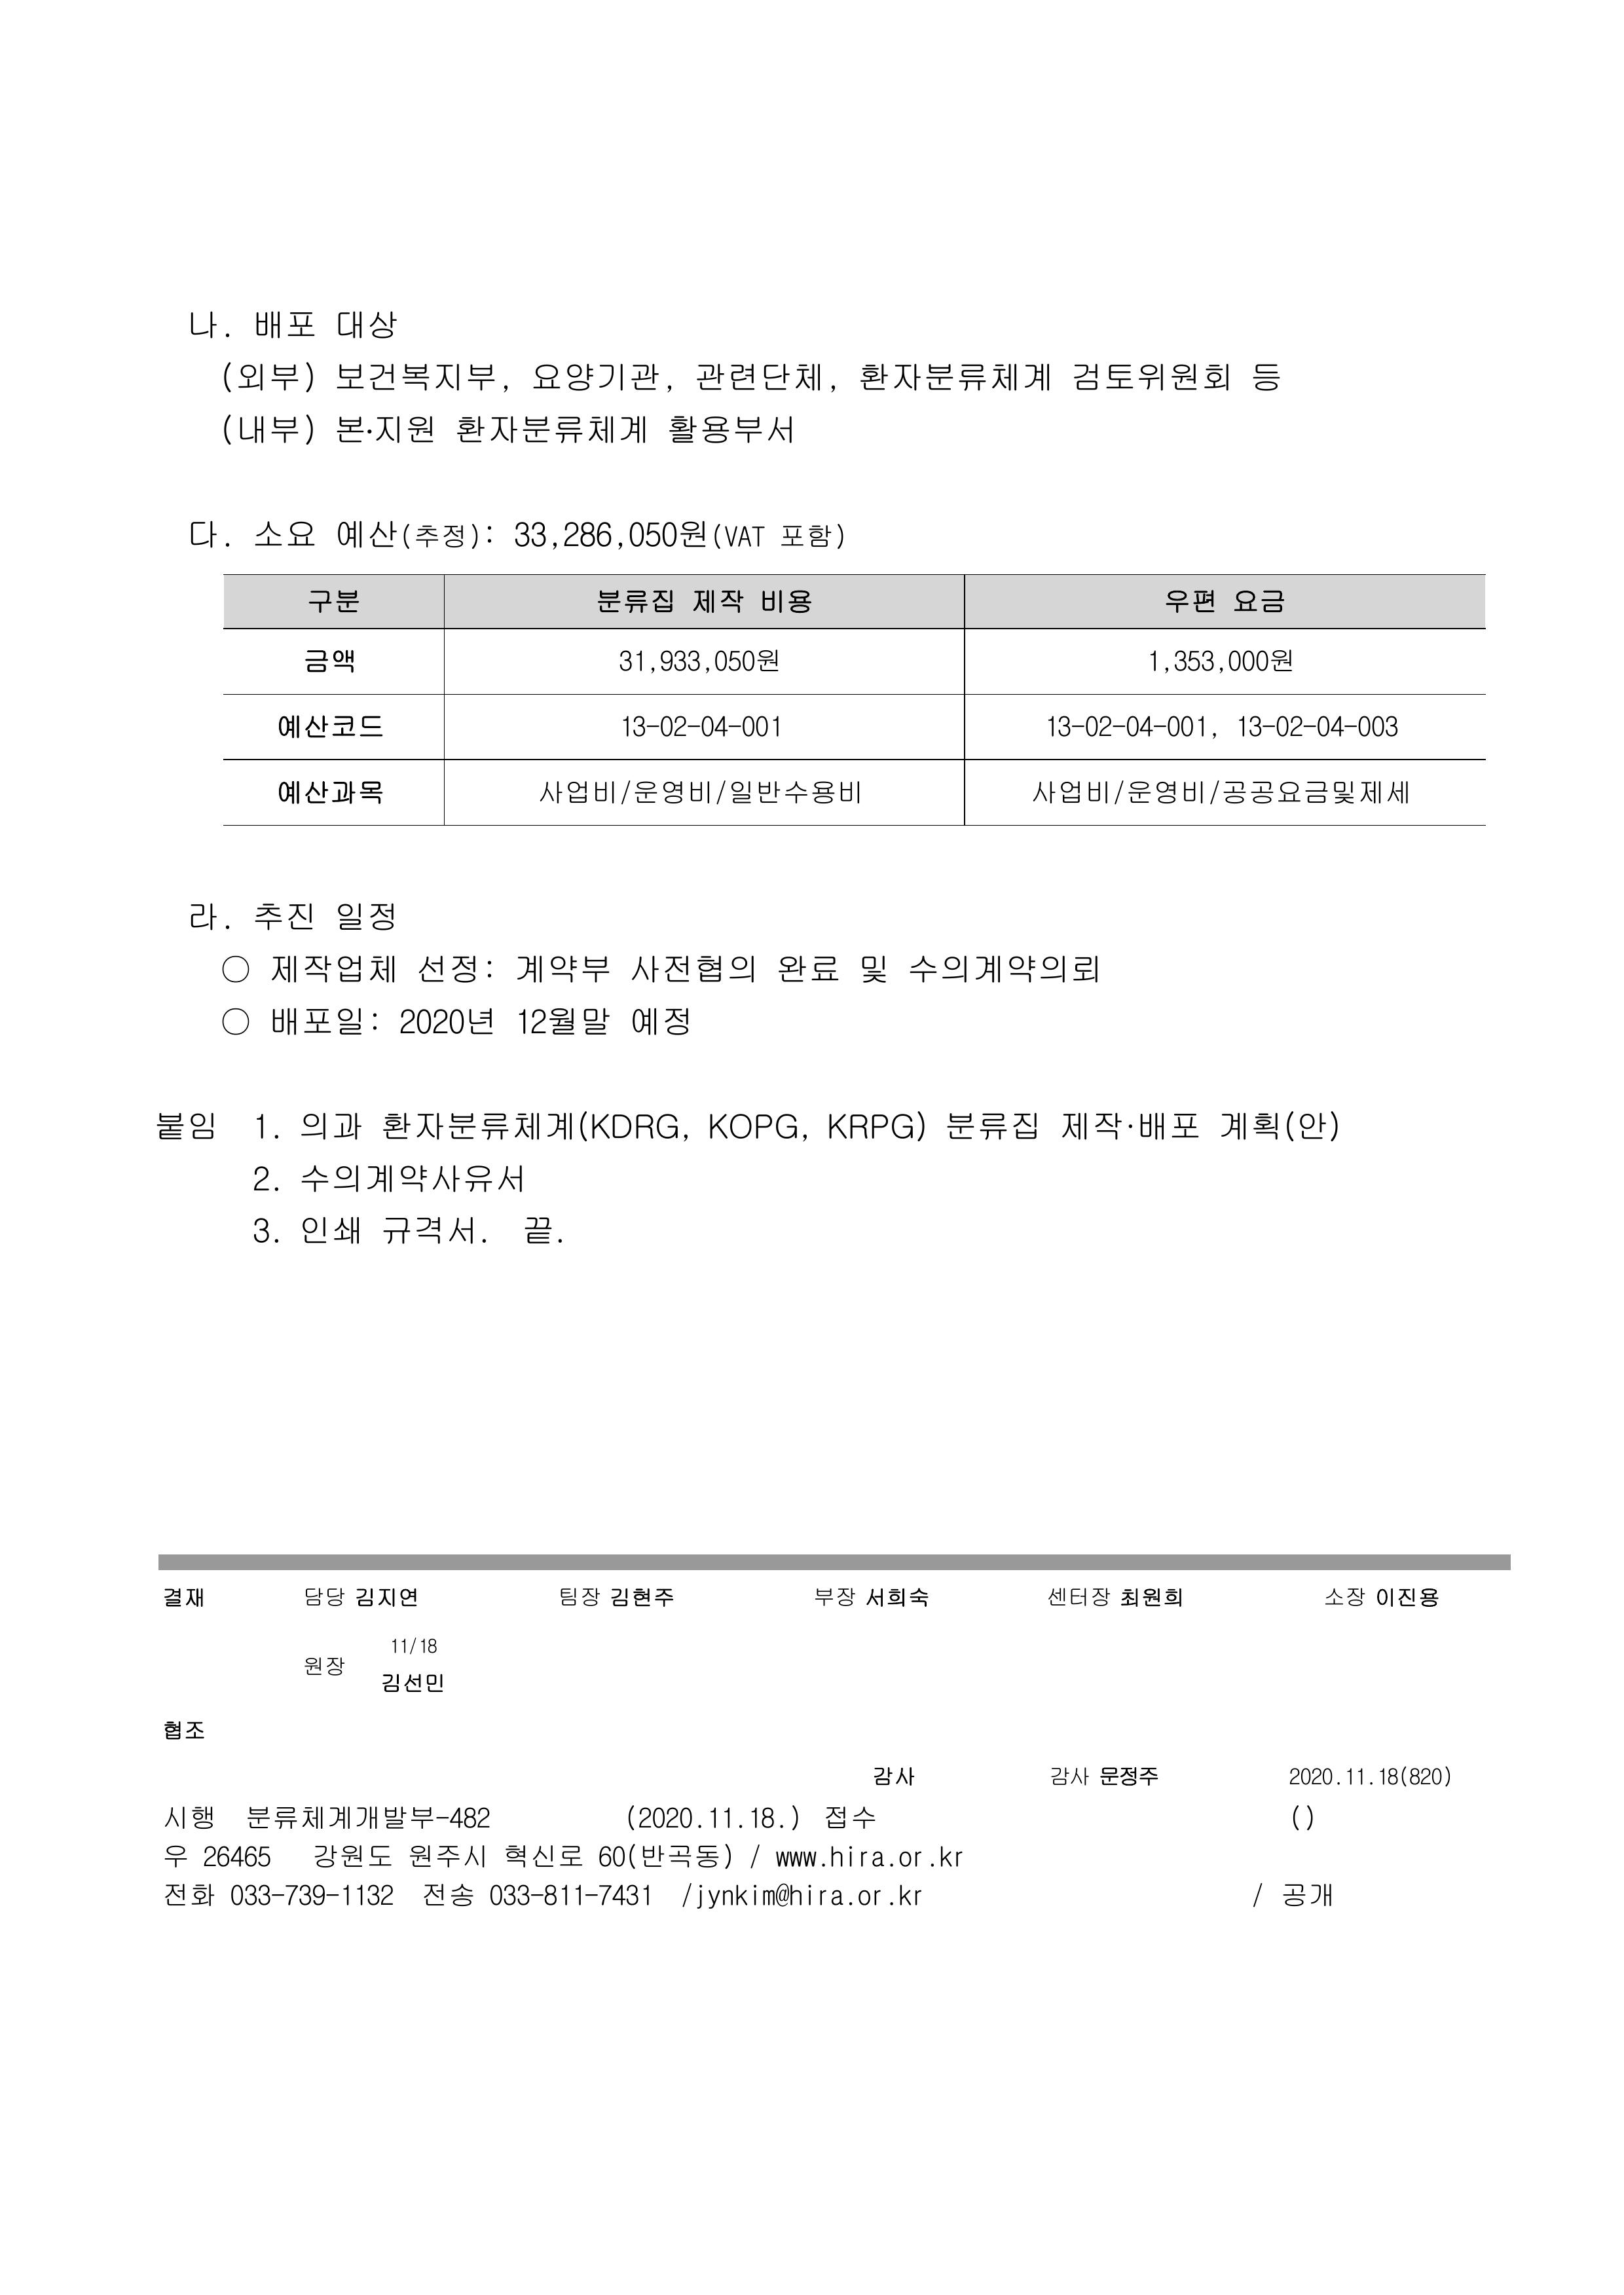t: (1029, 774, 1409, 810), (538, 774, 864, 810), (380, 1108, 685, 1144), (297, 1158, 527, 1198), (244, 1800, 491, 1832), (857, 358, 1054, 394), (455, 412, 649, 448), (904, 950, 1097, 986), (333, 358, 509, 394), (333, 516, 498, 552), (1069, 358, 1233, 394), (692, 358, 839, 394), (1058, 1108, 1201, 1144), (530, 358, 667, 394), (663, 412, 796, 448), (265, 950, 397, 986), (487, 1882, 652, 1911), (627, 950, 756, 986), (1215, 1108, 1341, 1144), (688, 1879, 817, 1911), (380, 1212, 487, 1247), (706, 1108, 810, 1144), (824, 1108, 929, 1144), (268, 1004, 369, 1040), (219, 358, 319, 394), (333, 412, 434, 448), (394, 1004, 494, 1040), (513, 1004, 613, 1040), (276, 774, 383, 807), (513, 950, 610, 986), (943, 1108, 1040, 1144), (219, 412, 315, 448), (276, 710, 383, 742), (623, 516, 710, 552), (416, 950, 494, 986), (308, 1839, 394, 1871), (405, 1839, 491, 1871), (595, 584, 678, 616), (502, 1839, 584, 1871), (297, 1108, 365, 1144), (200, 1839, 276, 1871), (828, 1846, 925, 1871), (774, 950, 839, 986), (154, 1108, 219, 1144), (627, 1004, 692, 1040), (667, 1839, 739, 1871), (297, 1212, 362, 1247), (595, 1839, 667, 1871), (333, 900, 394, 936), (778, 520, 846, 552), (251, 900, 319, 932), (1273, 713, 1348, 742), (251, 308, 315, 340), (333, 308, 397, 340), (283, 1882, 355, 1911), (251, 516, 315, 548), (559, 516, 616, 552), (713, 649, 781, 678), (1223, 645, 1291, 674), (706, 520, 767, 552), (419, 1879, 477, 1911), (688, 584, 746, 616), (756, 584, 814, 616), (1162, 584, 1219, 616), (821, 1800, 878, 1832), (864, 1581, 929, 1609), (1384, 1764, 1456, 1789), (706, 1807, 778, 1832), (304, 645, 358, 678), (1280, 1879, 1334, 1911), (1230, 584, 1283, 616), (610, 1585, 678, 1609), (1118, 1585, 1187, 1609), (1373, 1585, 1441, 1609), (659, 649, 717, 678), (161, 1879, 212, 1911), (308, 584, 358, 616), (1162, 710, 1212, 742), (383, 1671, 448, 1696), (355, 1585, 419, 1609), (1047, 1585, 1111, 1609), (509, 516, 552, 552), (161, 1803, 215, 1832), (1169, 645, 1215, 678), (638, 1807, 699, 1832), (735, 710, 781, 742), (1352, 710, 1402, 739), (1101, 1764, 1158, 1789), (520, 1212, 559, 1247), (351, 1879, 397, 1907), (301, 1581, 348, 1609), (186, 308, 226, 340), (186, 900, 226, 932), (229, 1882, 280, 1907), (1247, 358, 1280, 394), (656, 710, 692, 742), (814, 1886, 857, 1911), (559, 1585, 602, 1609), (1323, 1585, 1366, 1609), (304, 1657, 348, 1681), (1287, 1767, 1337, 1789), (857, 953, 889, 986), (814, 1585, 857, 1609), (1233, 713, 1273, 739), (871, 1767, 918, 1789), (774, 1850, 821, 1871), (885, 1886, 925, 1911), (1050, 1767, 1094, 1789), (390, 1638, 441, 1657), (620, 713, 656, 739), (164, 1588, 208, 1609), (616, 649, 652, 674), (699, 713, 731, 739), (1082, 713, 1115, 739), (1047, 713, 1079, 739), (254, 1215, 280, 1247), (254, 1115, 280, 1144), (857, 1886, 885, 1911), (936, 1846, 965, 1871), (1122, 717, 1154, 739), (164, 1843, 190, 1868), (254, 1165, 276, 1194), (1344, 1767, 1370, 1789), (183, 1721, 208, 1742)
